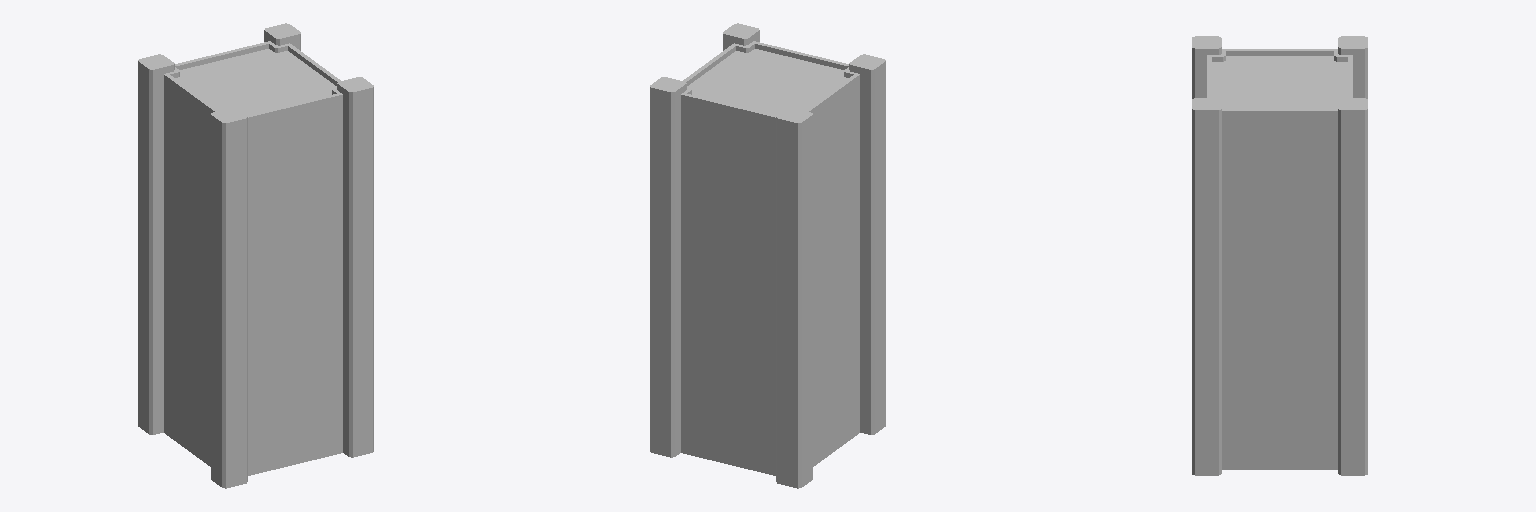
File: apartment5.obj
The picture shows the model from 3 angles: view 1: azimuth 30°, elevation 25°; view 2: azimuth 150°, elevation 25°; view 3: azimuth 270°, elevation 25°; orthographic projection.
Parts seen in each view (by area): view 1: Apartment_6; view 2: Apartment_6; view 3: Apartment_6.
Boxes of the visible parts, <box> form: Apartment_6: <box>138,23,373,488</box>; Apartment_6: <box>650,23,885,488</box>; Apartment_6: <box>1192,36,1367,475</box>.
Bounding box in the file's own units: 133 × 307 × 133.